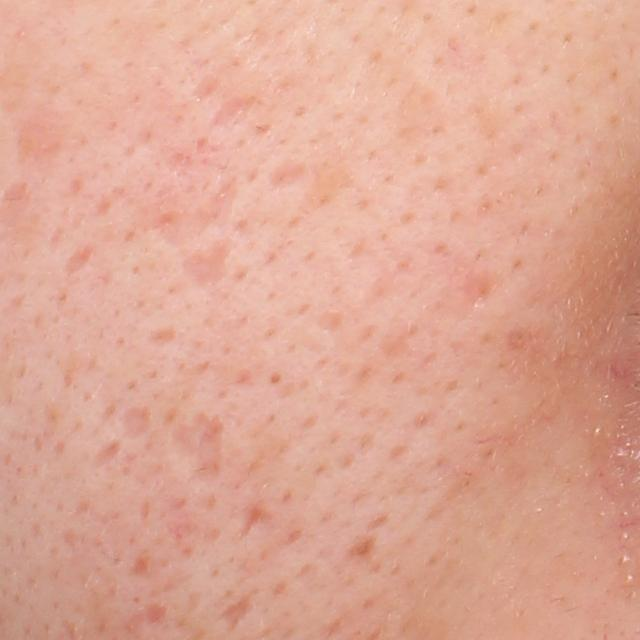atrophic_scar: (173, 411, 227, 480), (178, 238, 243, 288), (189, 176, 237, 236), (460, 269, 501, 315), (112, 406, 154, 446), (203, 102, 257, 131), (238, 499, 273, 540), (143, 320, 194, 347), (89, 438, 127, 471), (220, 595, 255, 629), (266, 161, 304, 190), (60, 243, 92, 277), (186, 73, 221, 104), (124, 549, 152, 580), (145, 604, 166, 626)
comedo: (260, 365, 284, 389)
